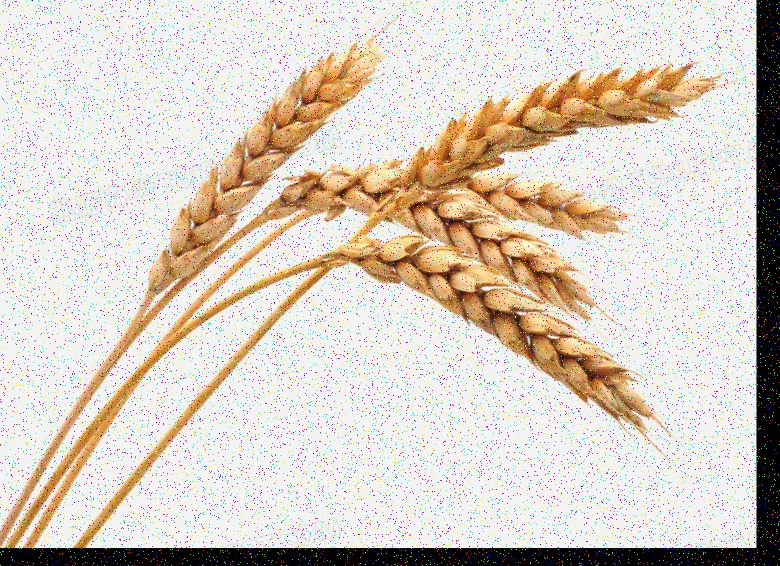wheat: (129, 39, 373, 324), (352, 53, 721, 239), (322, 240, 657, 435)
